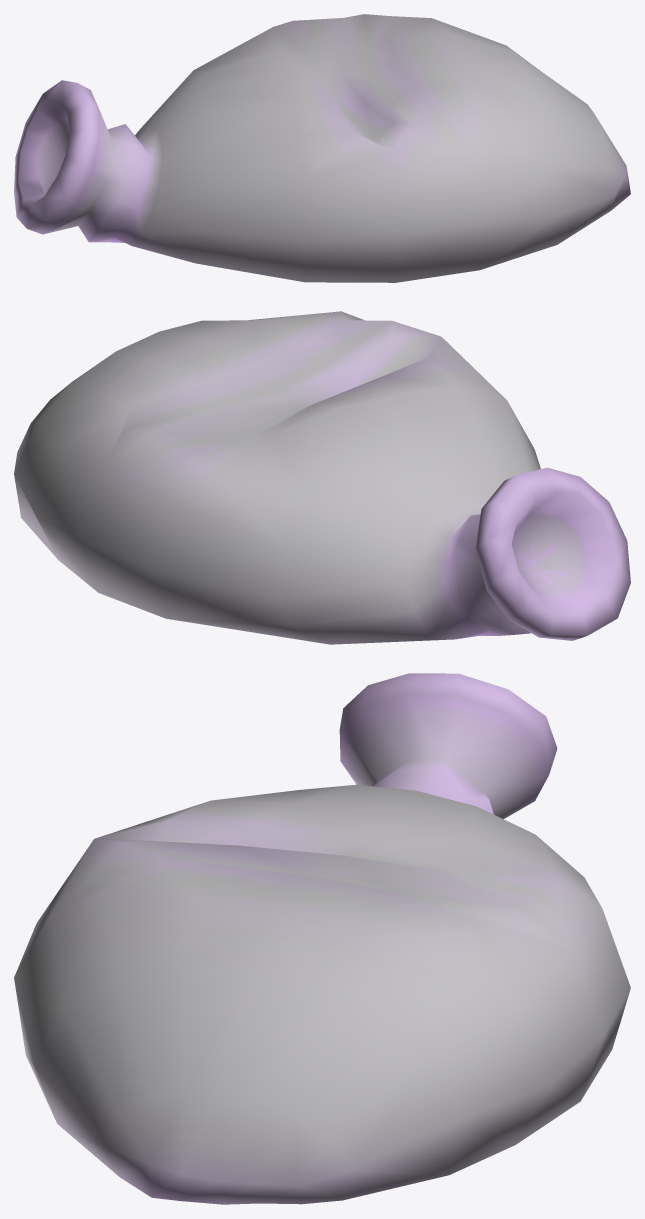
File: Condom.fbx
3 renders of one model, top to bottom at view 1: azimuth 30°, elevation 25°; view 2: azimuth 150°, elevation 25°; view 3: azimuth 270°, elevation 25°, orthographic. The views are drawn at different scales.
Visible parts, largest first — view 1: CondomShell; view 2: CondomShell; view 3: CondomShell.
Part boxes in pixels (left/top/right/bottom): CondomShell: left=14, top=14, right=630, bottom=282; CondomShell: left=14, top=311, right=630, bottom=644; CondomShell: left=14, top=673, right=630, bottom=1204.
Bounding box in the file's own units: 3.93 × 1.05 × 2.73.
Materials: 1 (1 with a texture image).
